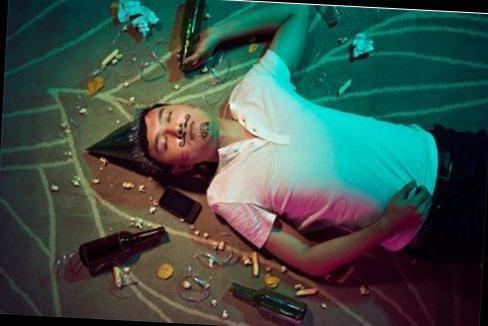Drunk: (146, 104, 214, 164)
